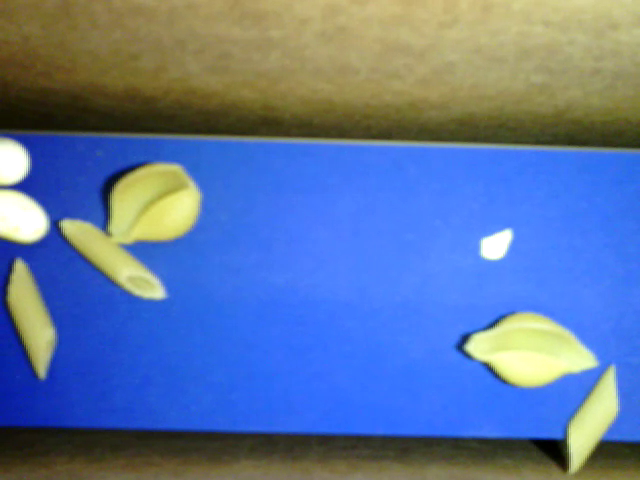penne: (59, 216, 167, 300), (7, 256, 57, 381), (564, 363, 619, 475)
shell: (462, 312, 600, 387), (105, 162, 202, 244)
